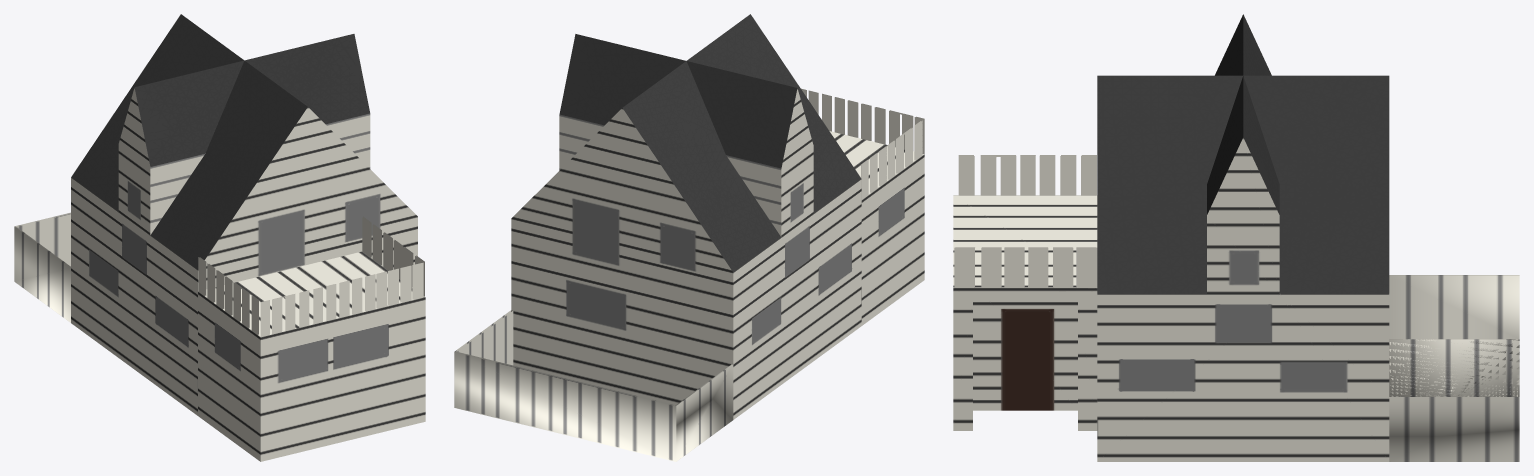
The model's file is House03.fbx.
3 renders of one model, left to right at view 1: azimuth 30°, elevation 25°; view 2: azimuth 150°, elevation 25°; view 3: azimuth 270°, elevation 25°, orthographic. The views are drawn at different scales.
Visible parts, largest first — view 1: House03; view 2: House03; view 3: House03.
Boxes of the visible parts, x1,y1,x2,y2 form: House03: (14, 14, 425, 461); House03: (454, 14, 924, 461); House03: (953, 14, 1519, 461).
Bounding box in the file's own units: 6.44 × 7.9 × 12.49.
1 material, 1 textured.
